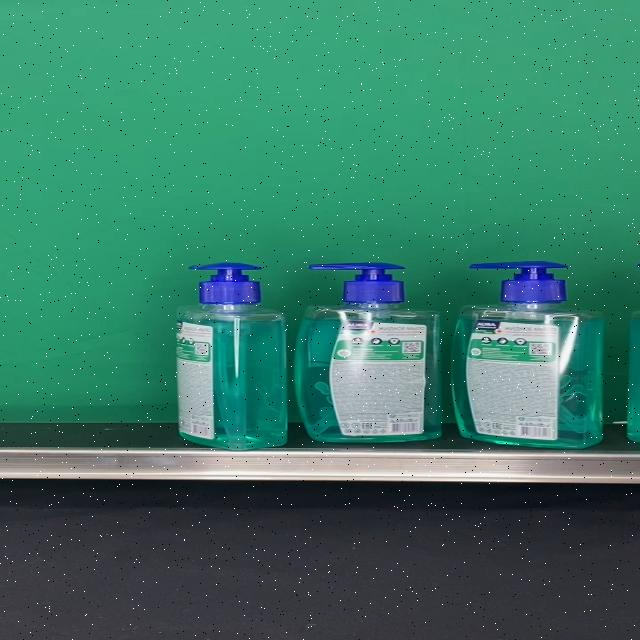Bottle: (451, 262, 603, 449), (296, 263, 442, 442), (177, 262, 287, 450)
Cap: (470, 261, 570, 303), (308, 262, 407, 304), (188, 263, 264, 304)
